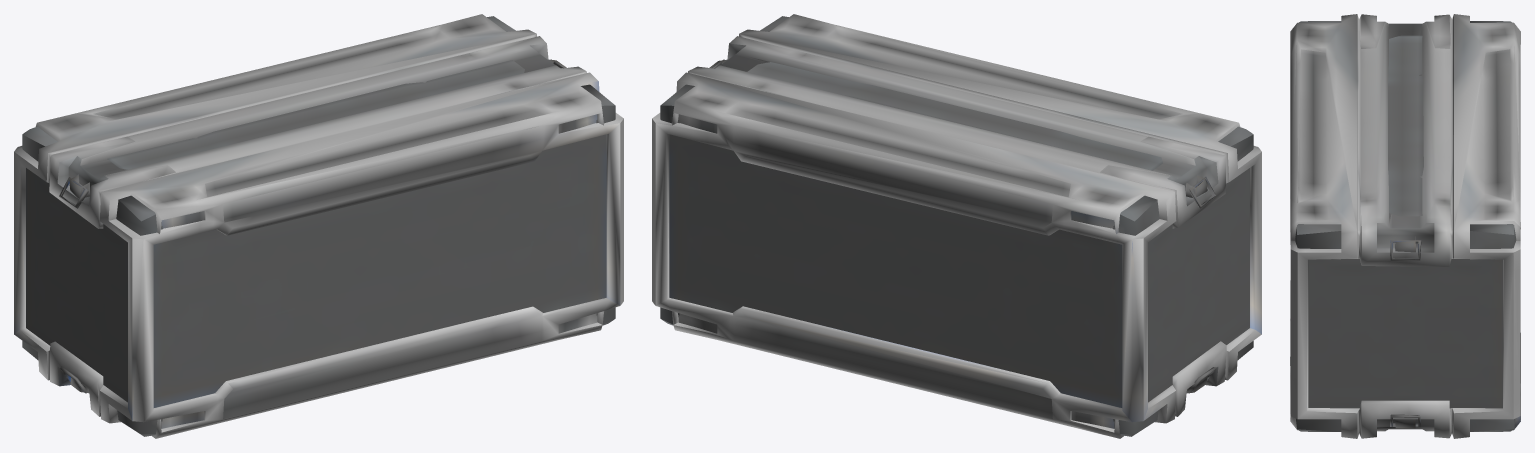
File: Prop_Crate_Large.obj
3 renders of one model, left to right at view 1: azimuth 30°, elevation 25°; view 2: azimuth 150°, elevation 25°; view 3: azimuth 270°, elevation 25°, orthographic. The views are drawn at different scales.
Parts seen in each view (by area): view 1: Prop_Crate_Large_Cube.008; view 2: Prop_Crate_Large_Cube.008; view 3: Prop_Crate_Large_Cube.008.
Boxes of the visible parts, x1=… form: Prop_Crate_Large_Cube.008: x1=14, y1=14, x2=623, y2=438; Prop_Crate_Large_Cube.008: x1=652, y1=14, x2=1261, y2=438; Prop_Crate_Large_Cube.008: x1=1290, y1=14, x2=1520, y2=438.
Bounding box in the file's own units: 3.46 × 1.51 × 1.51.
Materials: 1 (1 with a texture image).
